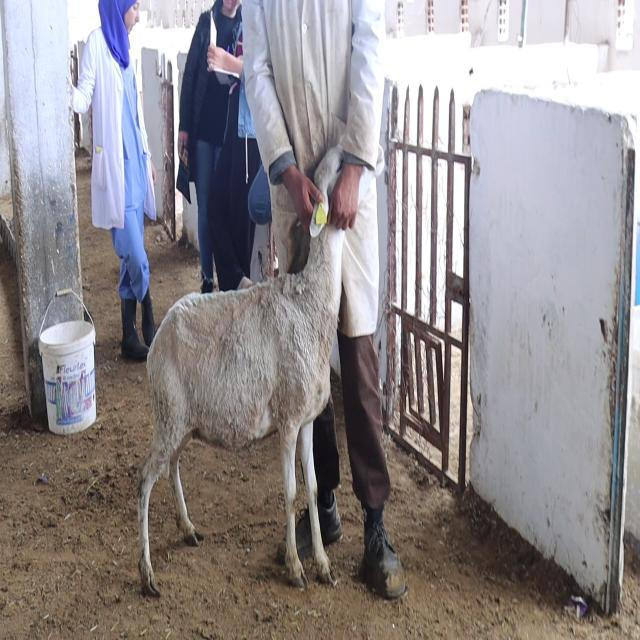Score_1: (138, 145, 344, 595)
